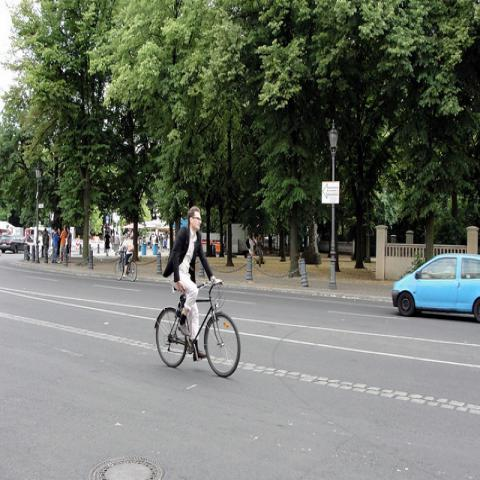car: (391, 252, 479, 324), (0, 227, 24, 253)
